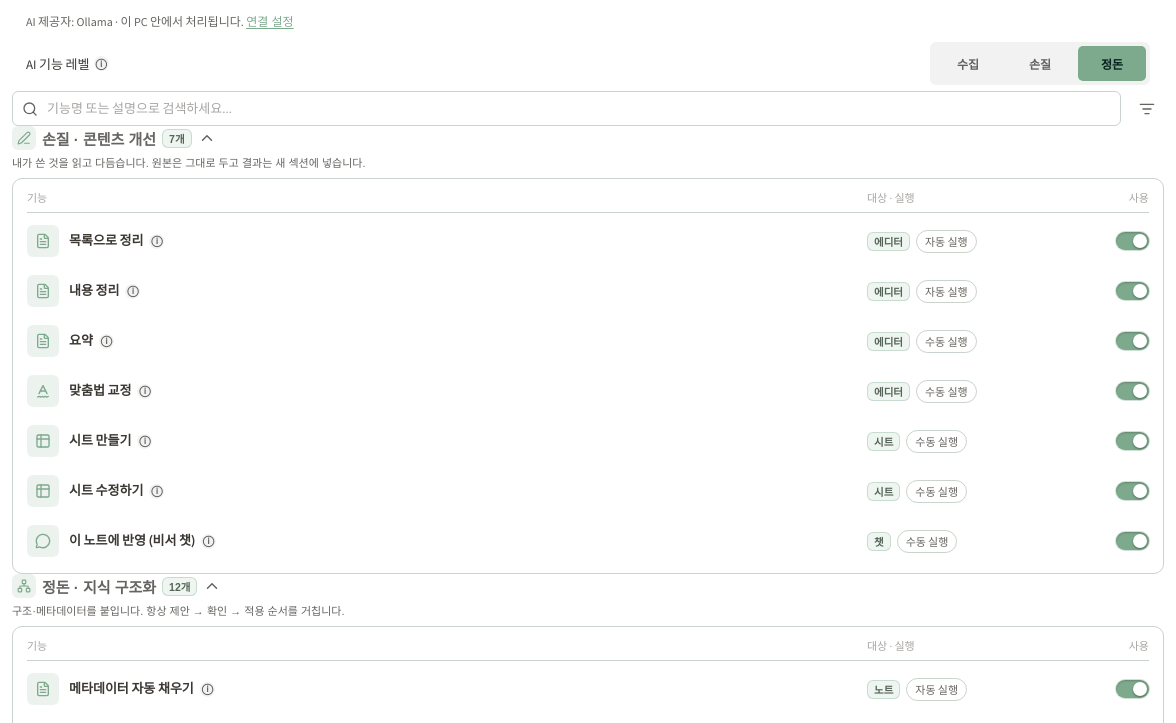
Test: Challenger M4: AiCapabilityCatalog Empirical Adversarial Challenge › 3. Accordion Cards Collapse / Expand Stress Test › 3.4 survives search query filtering while all tiers are collapsed without error
Click the button with test id "ai-capability-tier-header-refine": (99, 139) [12,126,1164,170]
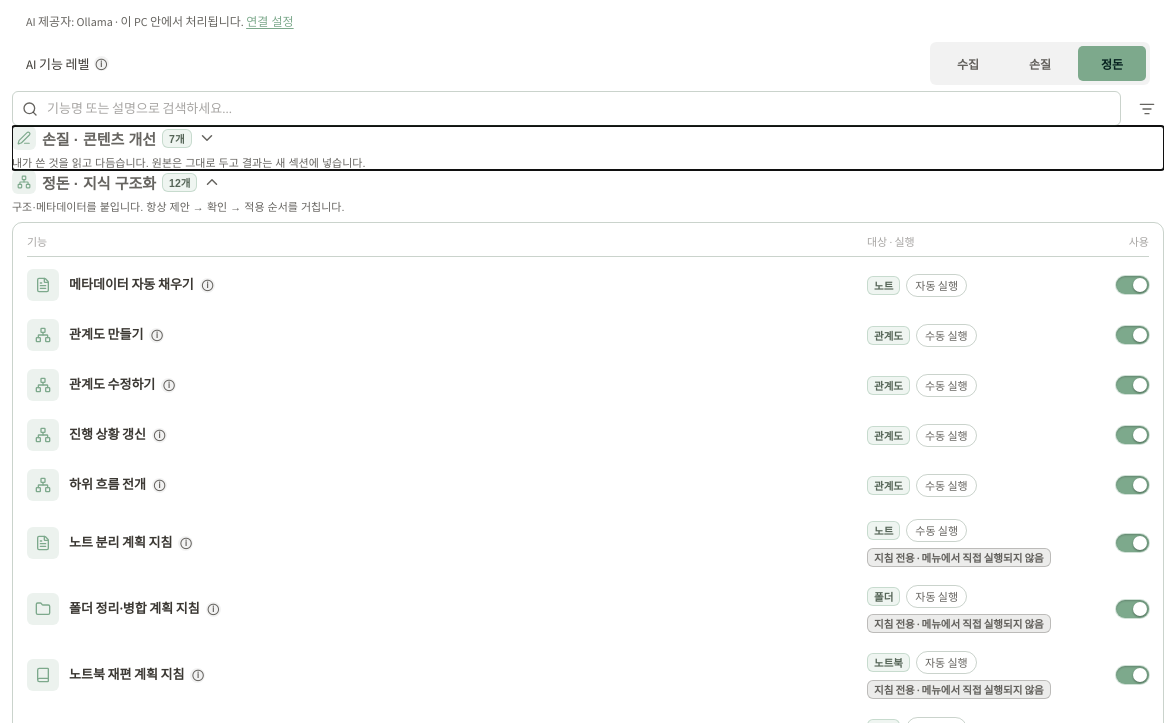
Click the button with test id "ai-capability-tier-header-organize": (99, 183) [12,170,1164,214]
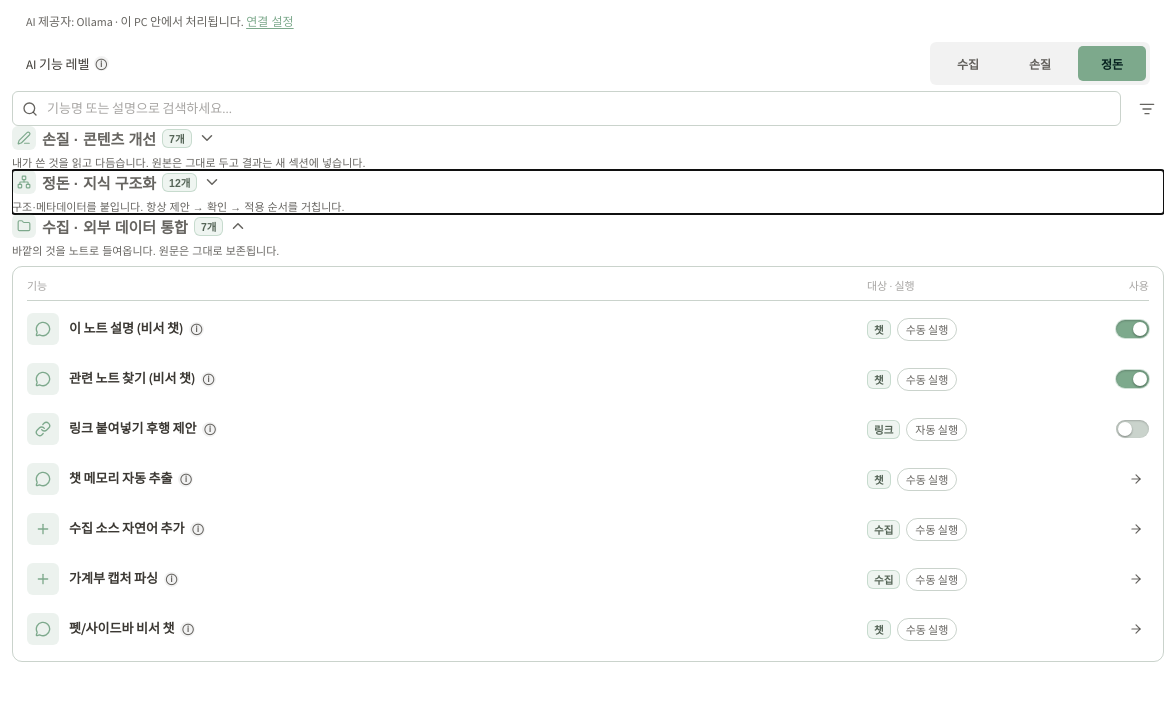
Click the button with test id "ai-capability-tier-header-gather": (115, 227) [12,214,1164,258]
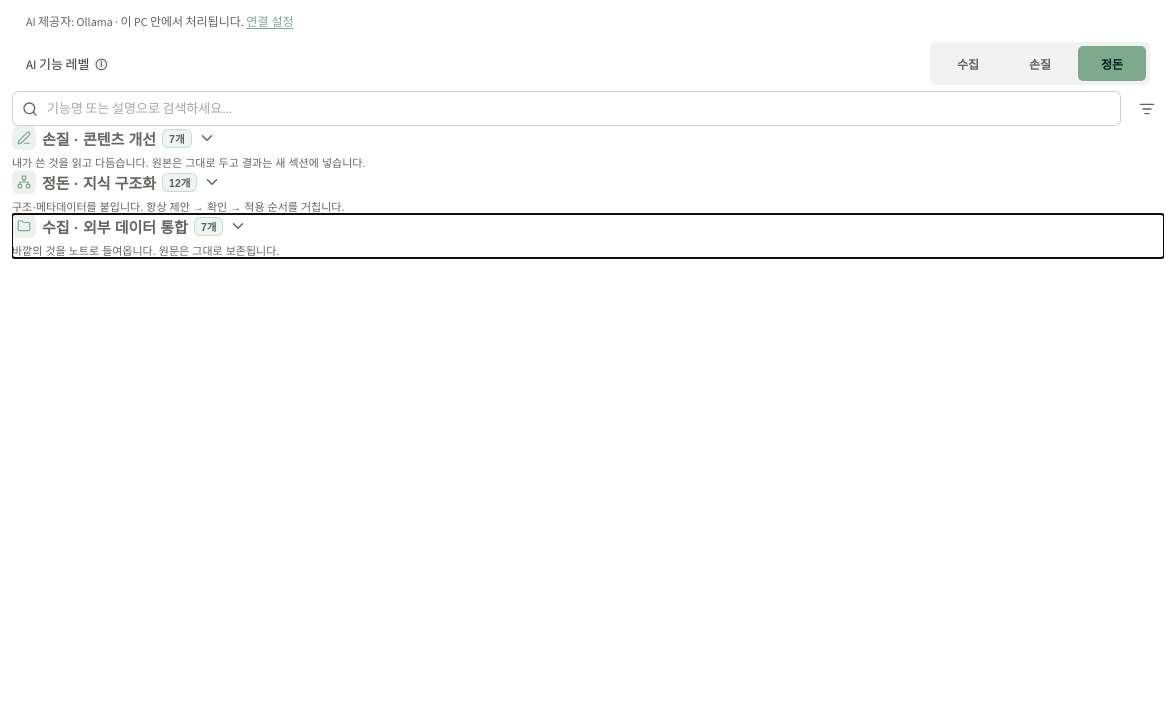
Result: the button with test id "ai-capability-tier-header-refine" is collapsed at [12,126,1164,170]
Result: the button with test id "ai-capability-tier-header-organize" is collapsed at [12,170,1164,214]
Result: the button with test id "ai-capability-tier-header-gather" is collapsed at [12,214,1164,258]
Search while collapsed
In the search field with test id "ai-capability-search-input": (566, 108) [12,91,1121,126], type "맞춤법"
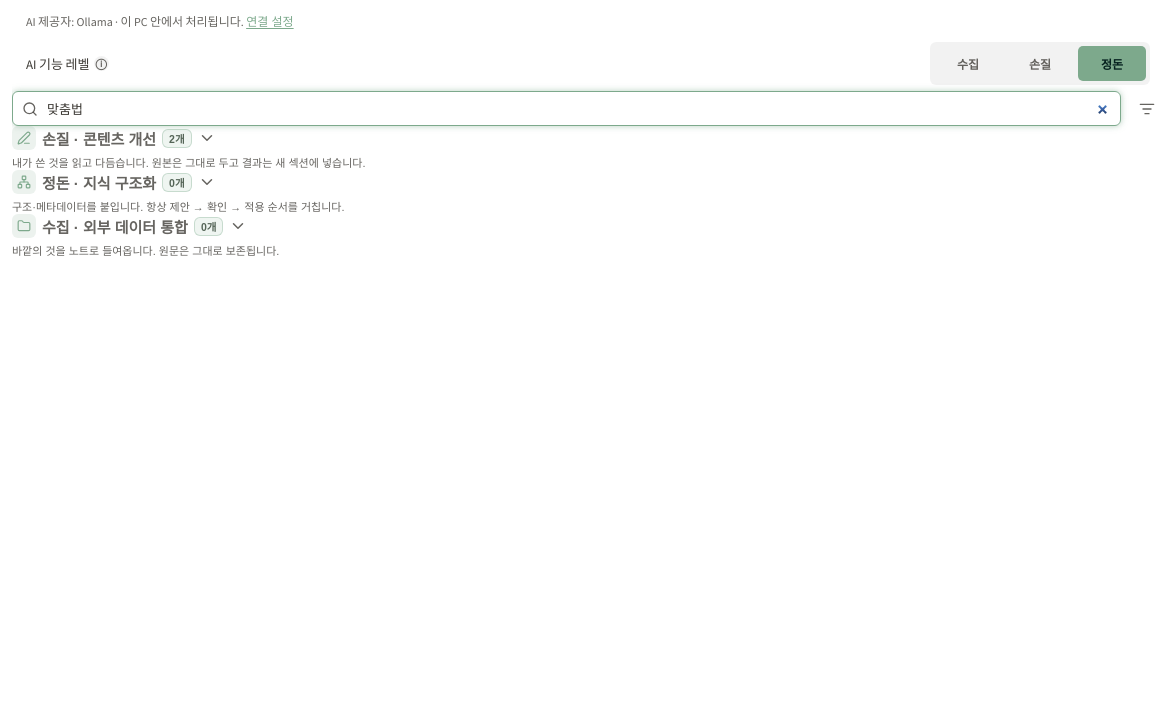
Re-expand refine tier
Click the button with test id "ai-capability-tier-header-refine": (99, 139) [12,126,1164,170]
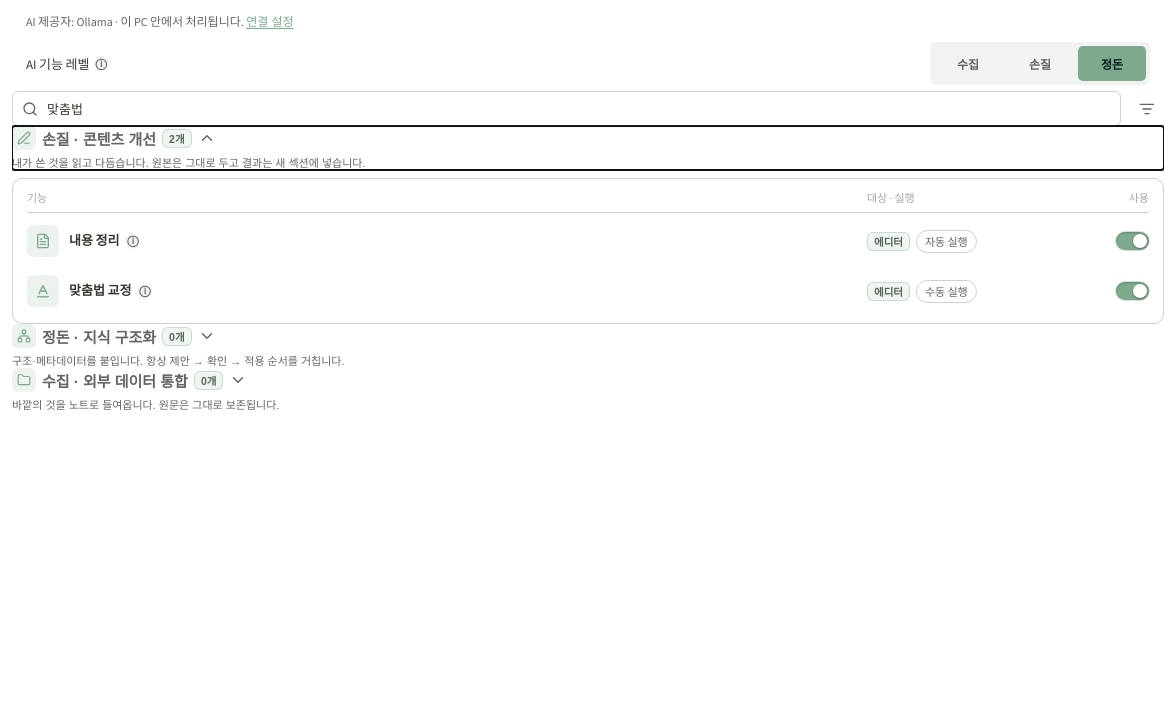
Result: the element with test id "ai-capability-row-proofread" is shown at [27,269,1149,313]
